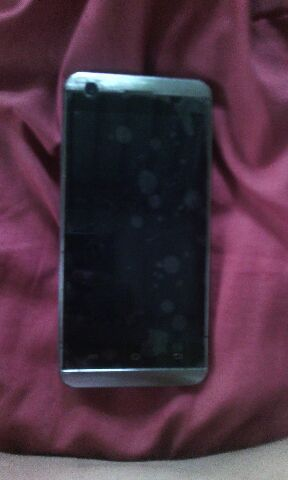phone: (55, 65, 216, 393)
